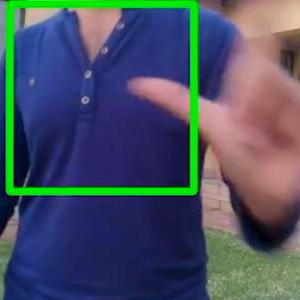land_hand: (125, 0, 299, 225)
